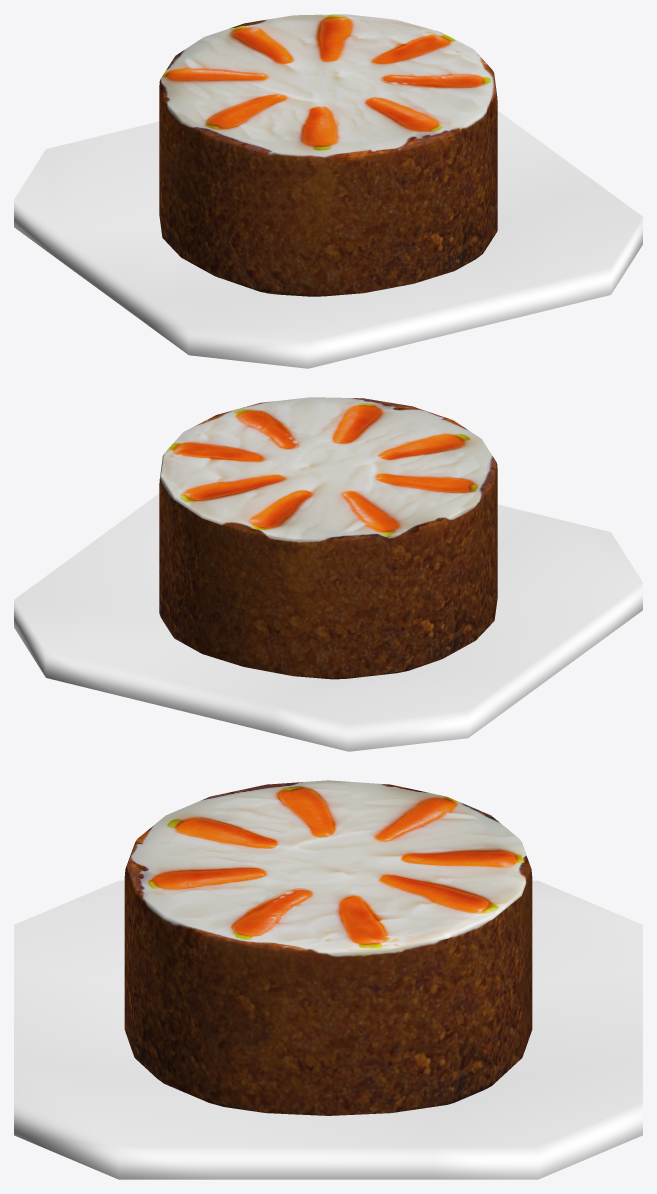
File: CarrotCake.fbx
3 renders of one model, top to bottom at view 1: azimuth 30°, elevation 25°; view 2: azimuth 150°, elevation 25°; view 3: azimuth 270°, elevation 25°, orthographic. The views are drawn at different scales.
Visible parts, largest first — view 1: carrotCake; view 2: carrotCake; view 3: carrotCake.
Boxes of the visible parts, box(x1,y1,x2,y2) form: carrotCake: box(14, 14, 642, 368); carrotCake: box(14, 397, 642, 751); carrotCake: box(14, 780, 642, 1179).
Size of the model in its own units: 40.64 by 14.03 by 40.64.
Materials: 2 (2 with a texture image).
